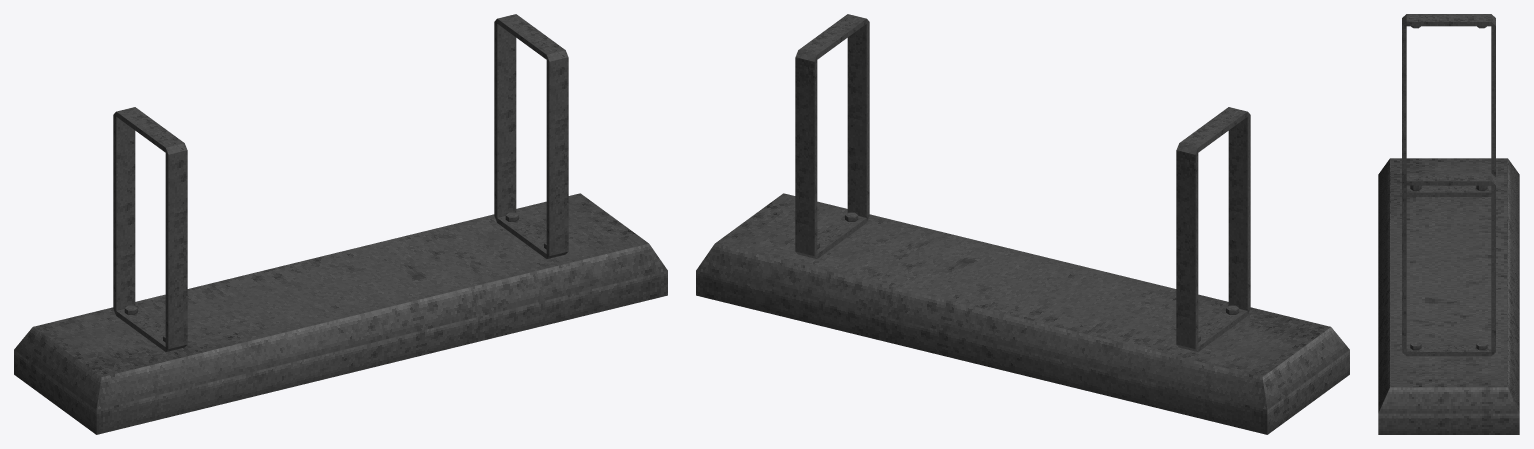
File: ceiling_lamp_4_b_off.glb
3 renders of one model, left to right at view 1: azimuth 30°, elevation 25°; view 2: azimuth 150°, elevation 25°; view 3: azimuth 270°, elevation 25°, orthographic. The views are drawn at different scales.
Visible parts, largest first — view 1: ceiling_lamp_4_b_off; view 2: ceiling_lamp_4_b_off; view 3: ceiling_lamp_4_b_off.
Boxes of the visible parts, x1,y1,x2,y2 form: ceiling_lamp_4_b_off: [14, 14, 667, 434]; ceiling_lamp_4_b_off: [696, 14, 1349, 434]; ceiling_lamp_4_b_off: [1378, 14, 1519, 434].
Size of the model in its own units: 1.2 by 0.51 by 0.3.
Materials: 1 (1 with a texture image).
